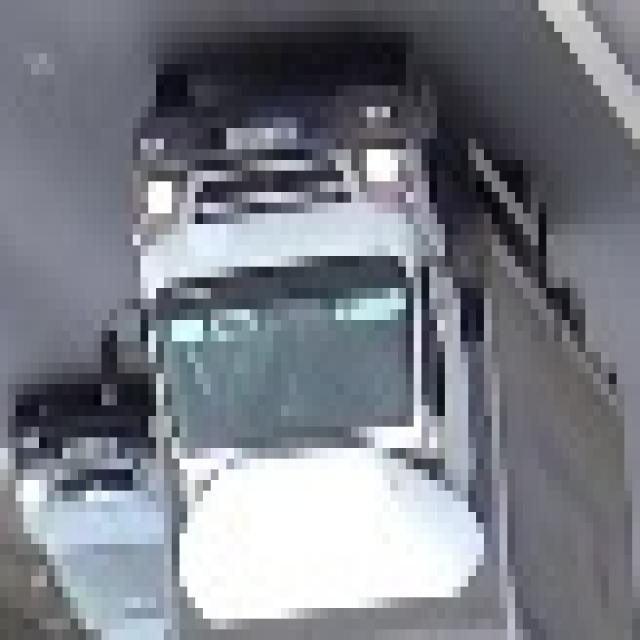truck: (93, 64, 632, 640)
